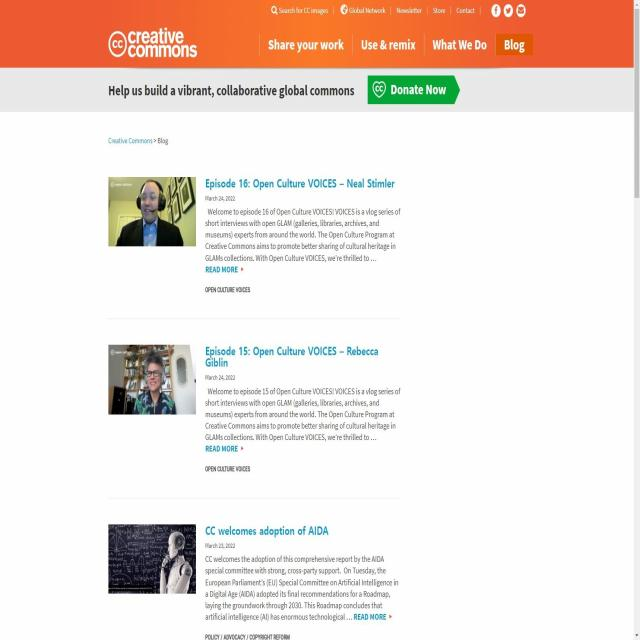button: (366, 75, 462, 106), (503, 2, 513, 18), (491, 3, 501, 18), (516, 3, 526, 18)
